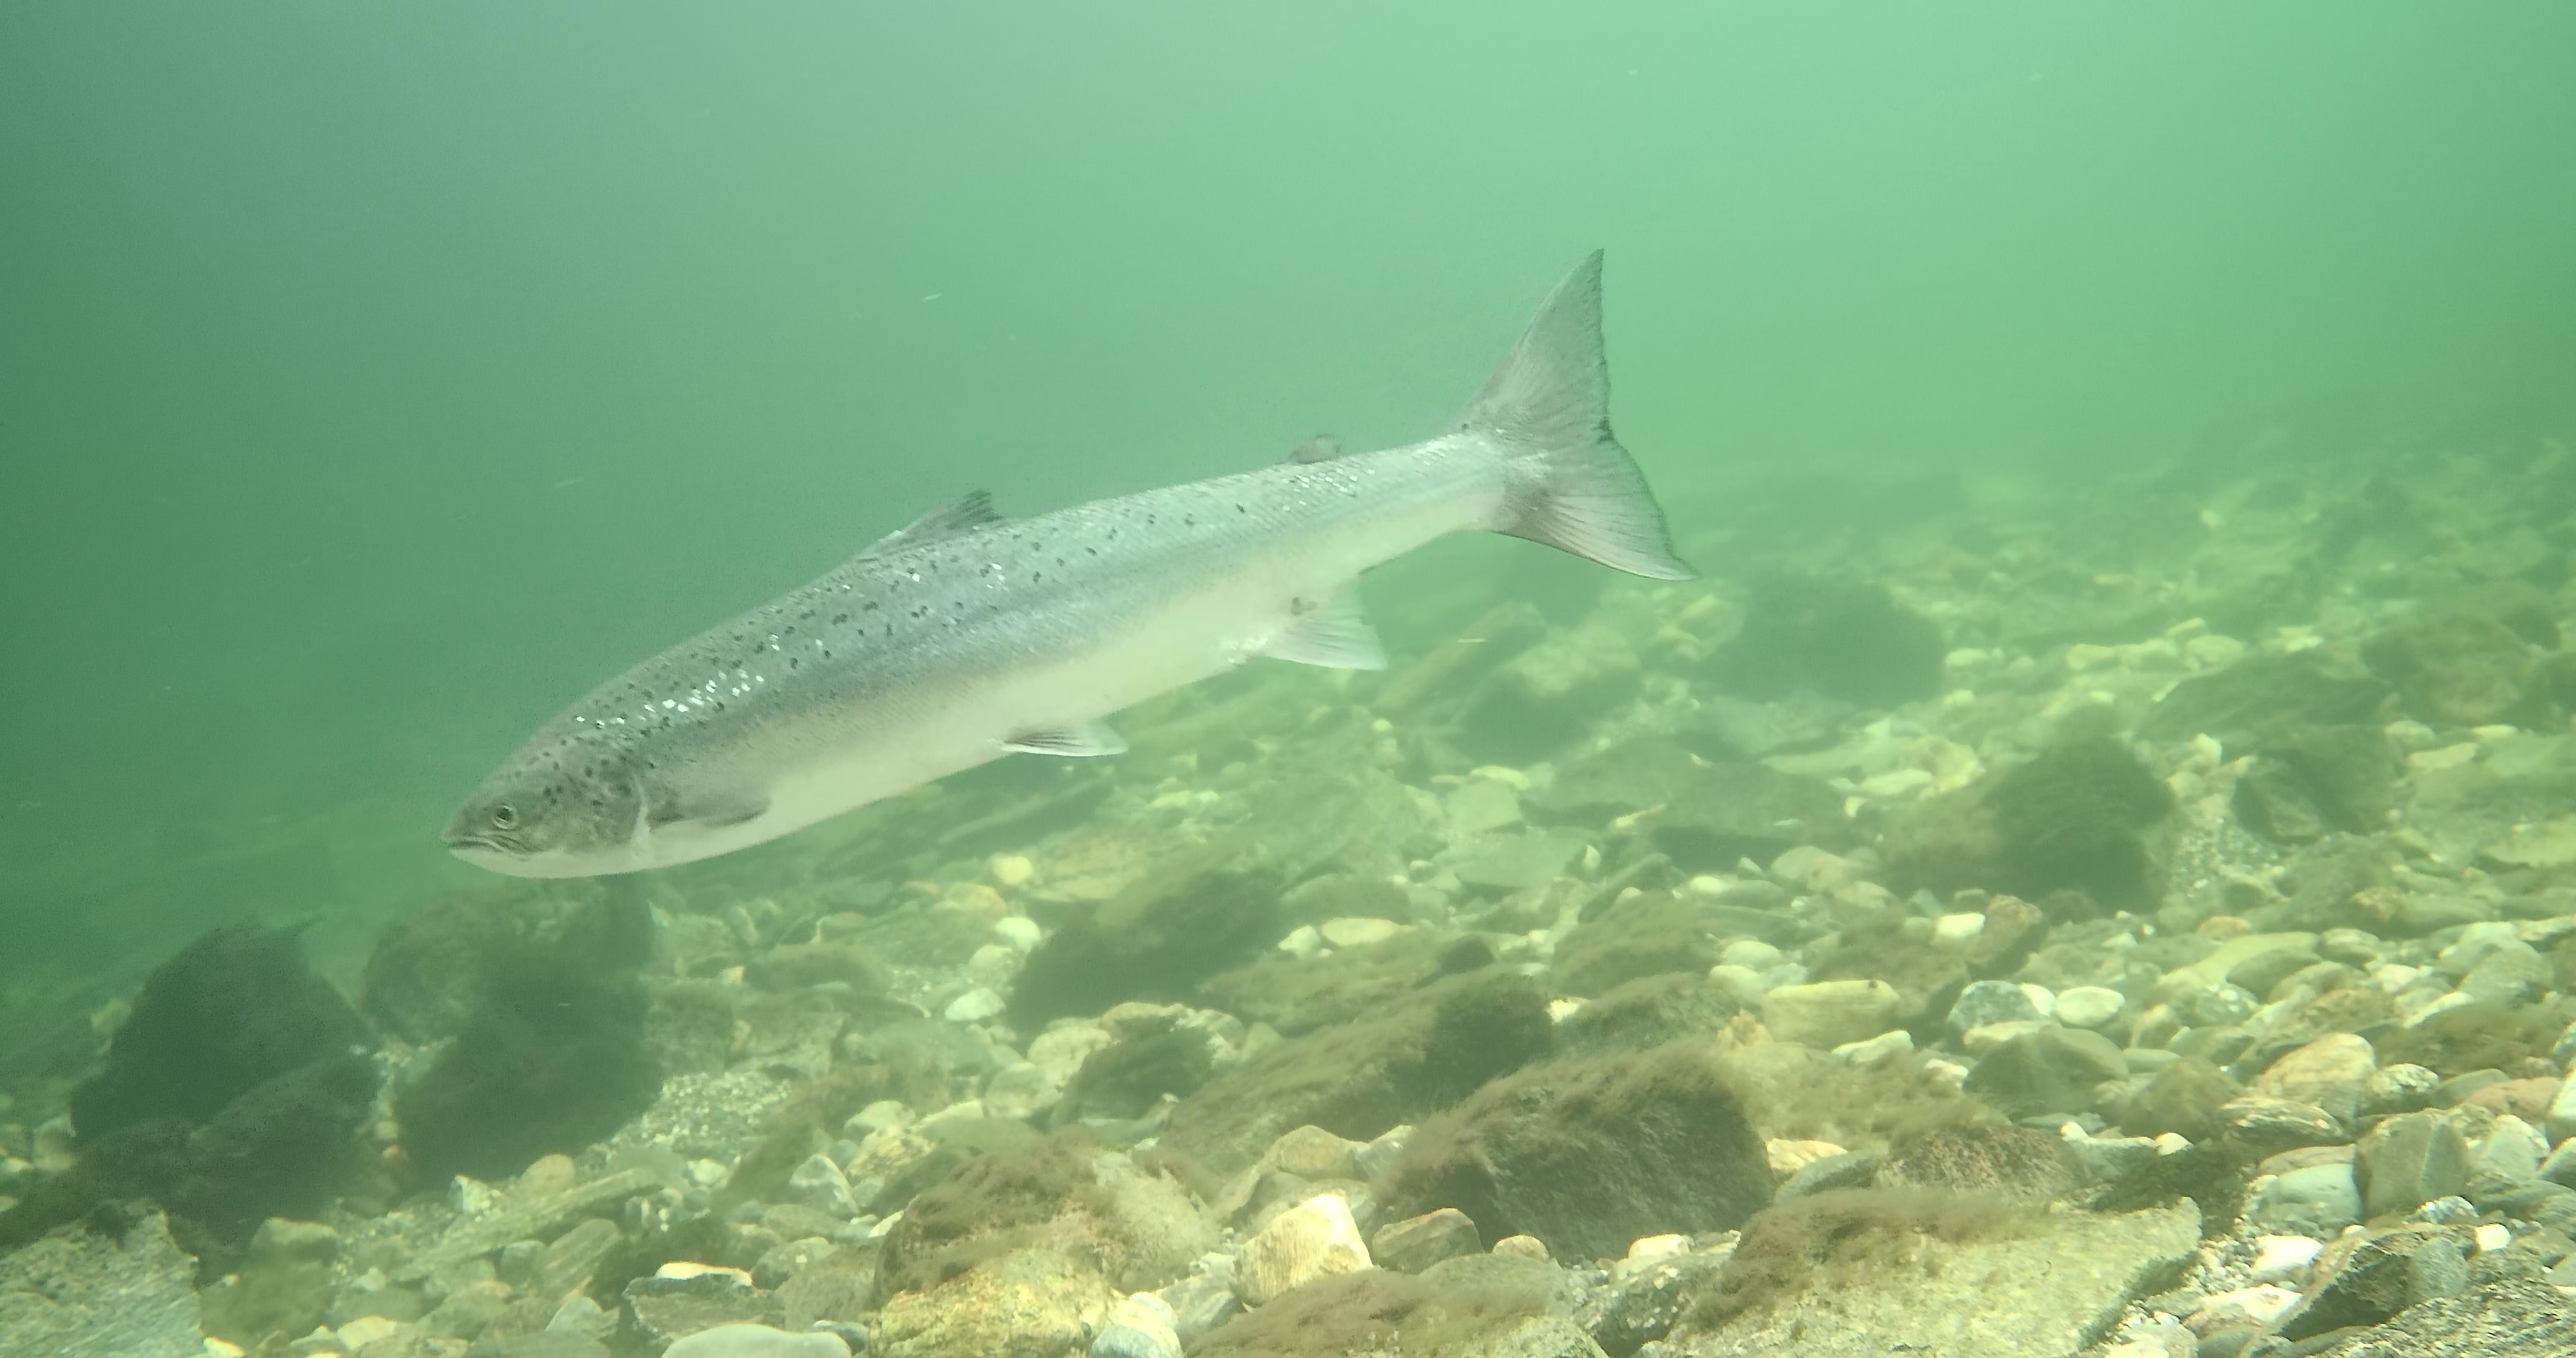salmon: (440, 245, 1690, 888)
